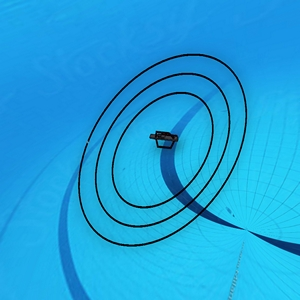circle: (78, 54, 246, 249)
submarine: (149, 128, 179, 149)
